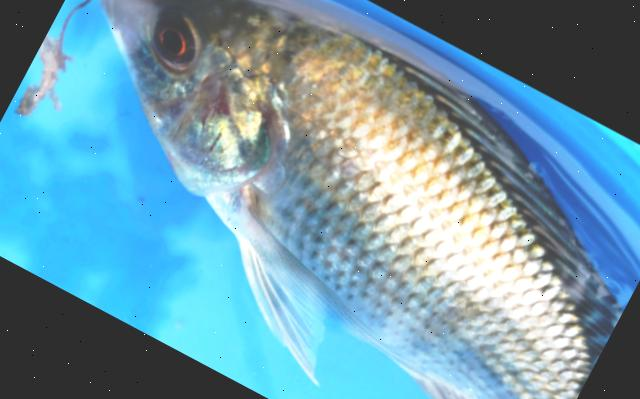Columnaris Disease: (100, 0, 622, 399)
